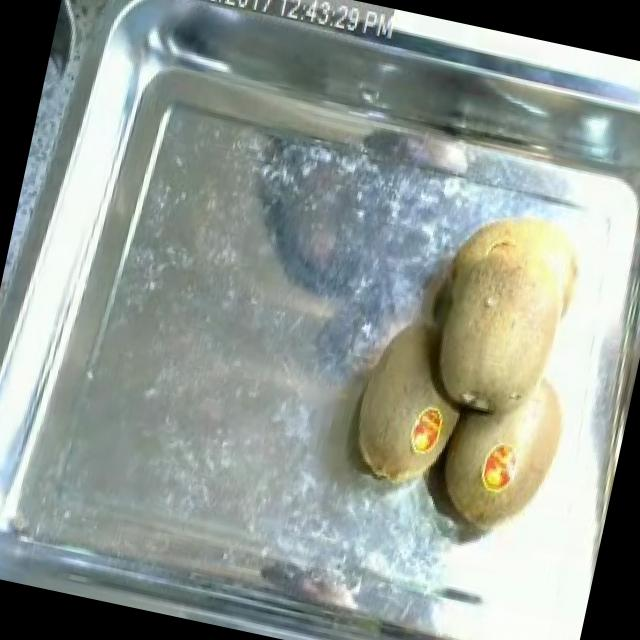Fruit: (395, 184, 617, 446), (328, 304, 486, 504)
